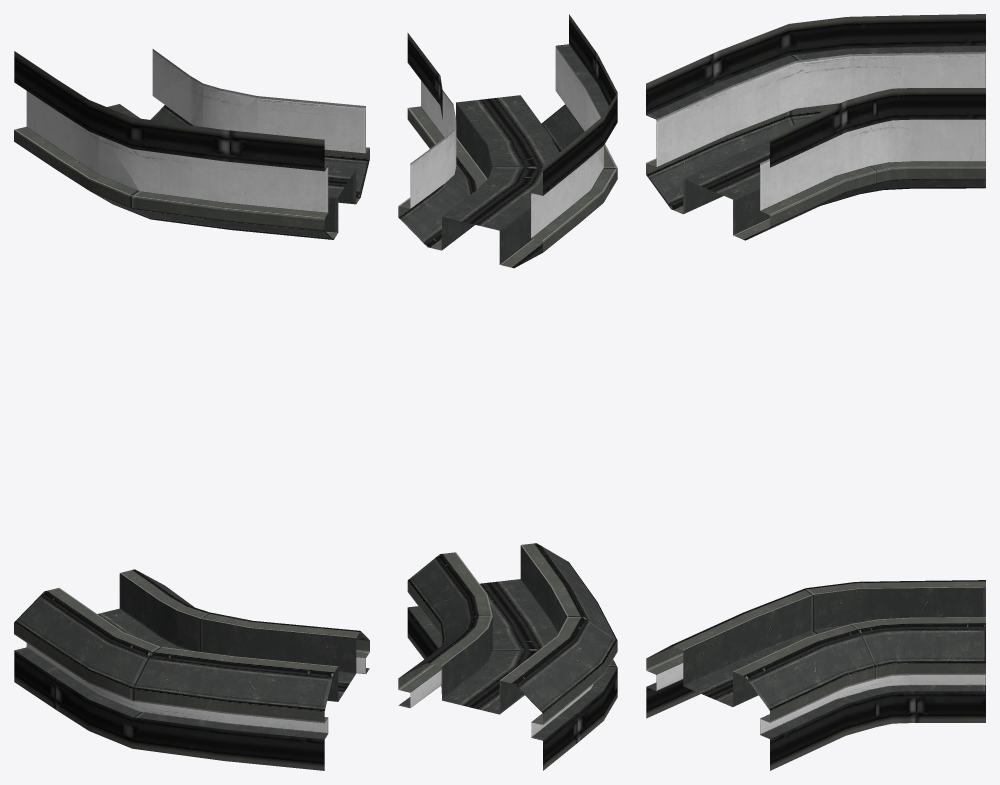
Rendered from Neon_WindowFrameAngle.FBX.
3 views of the same model, side by side, from view 1: azimuth 30°, elevation 25°; view 2: azimuth 150°, elevation 25°; view 3: azimuth 270°, elevation 25° (orthographic). The views are drawn at different scales.
Parts seen in each view (by area): view 1: Neon_WindowFrameAngle; view 2: Neon_WindowFrameAngle; view 3: Neon_WindowFrameAngle.
Boxes of the visible parts, <box> form: Neon_WindowFrameAngle: <box>14,49,369,770</box>; Neon_WindowFrameAngle: <box>398,14,617,770</box>; Neon_WindowFrameAngle: <box>646,14,985,770</box>.
Size of the model in its own units: 1.65 by 4 by 1.94.
